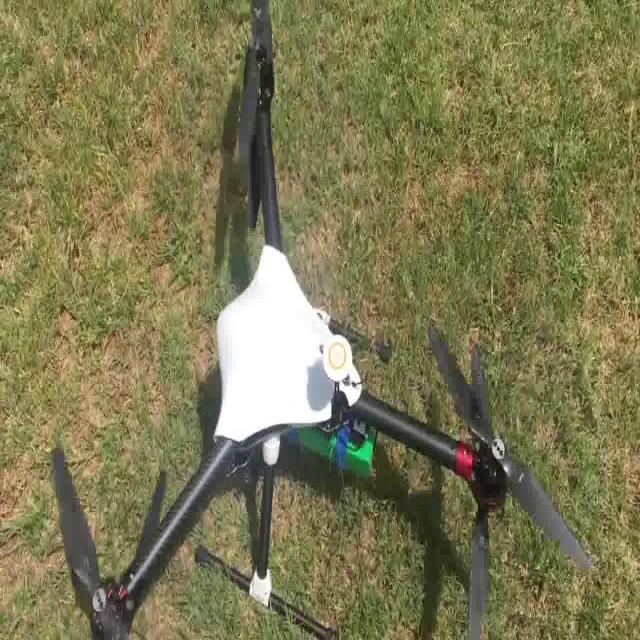Drone_FW: (48, 0, 592, 636)
